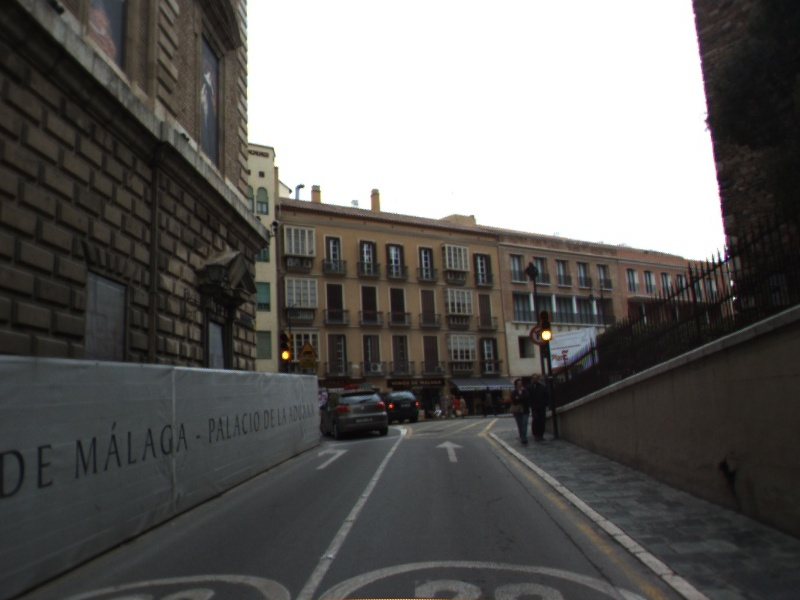LEFT: (314, 444, 351, 472)
STRAIGHT: (433, 439, 467, 464)
